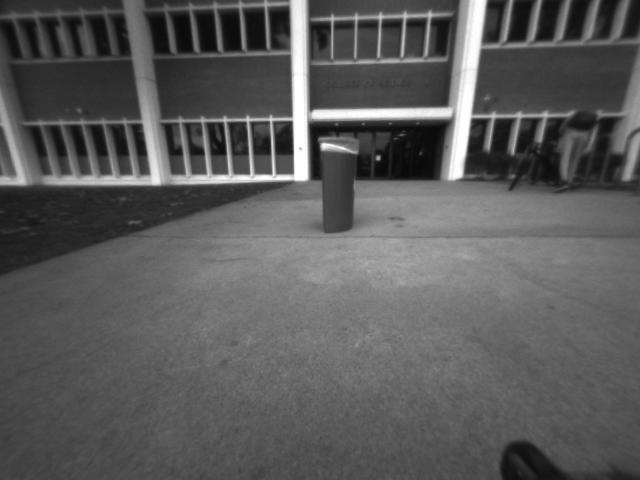trashcan_open: (312, 130, 364, 239)
